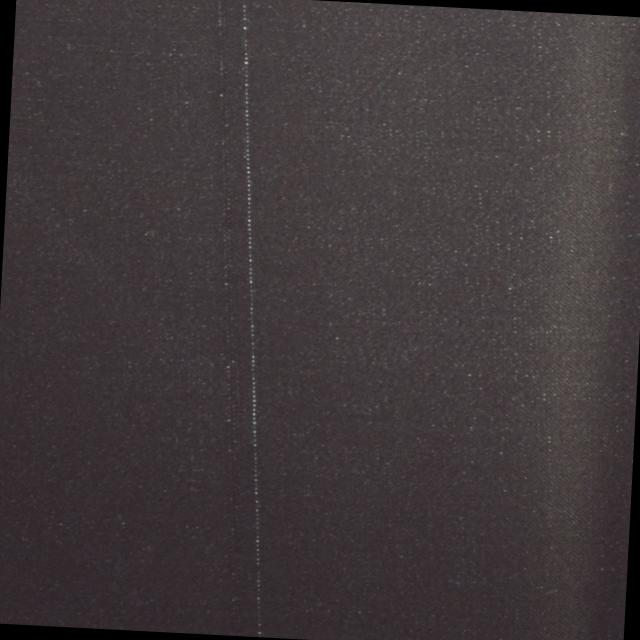Warp_Weft: (205, 0, 300, 637)
